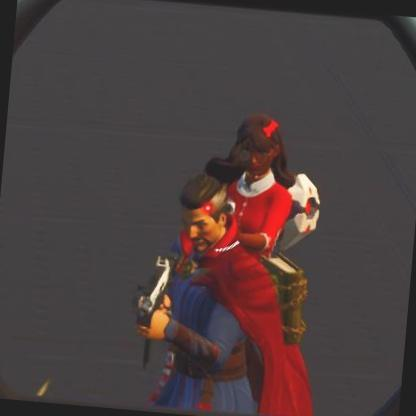person: (123, 184, 275, 416), (204, 121, 319, 254)
